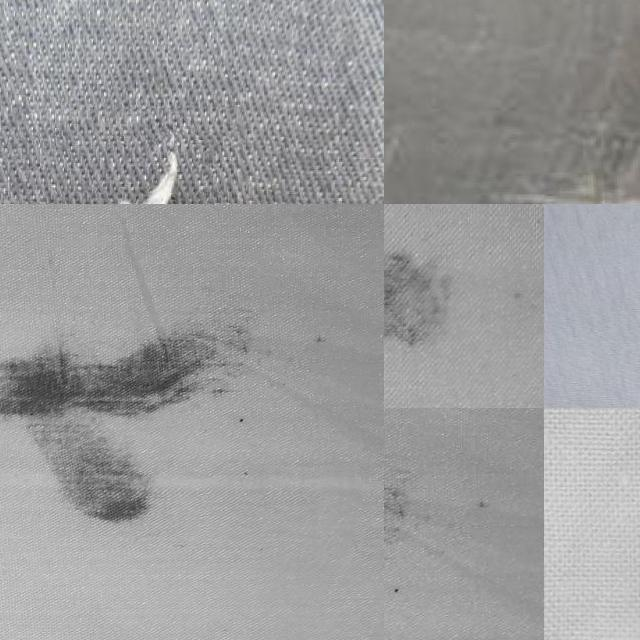Thread_other: (0, 238, 361, 574), (384, 408, 525, 640), (384, 232, 486, 360)
stains: (442, 0, 640, 204), (56, 108, 245, 204)
